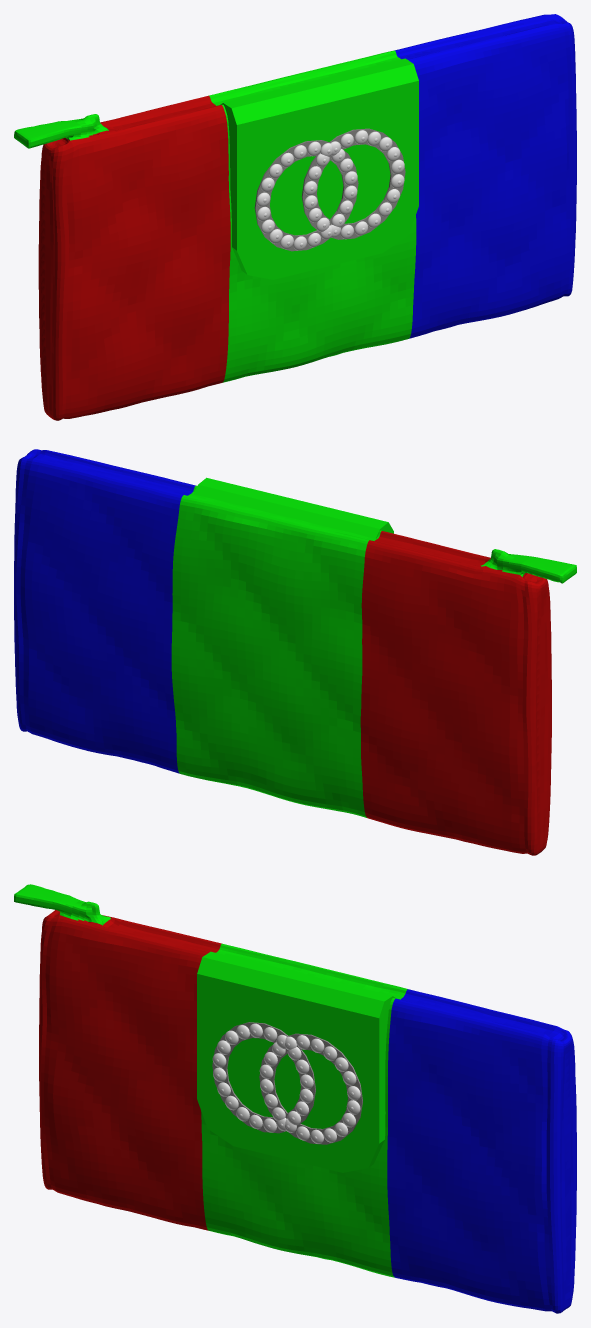
The model's file is Colour wallet.fbx.
3 views of the same model, one above another, from view 1: azimuth 30°, elevation 25°; view 2: azimuth 150°, elevation 25°; view 3: azimuth 330°, elevation 25° (orthographic).
Parts seen in each view (by area): view 1: Group15469, pCube1, polySurface22, polySurface34; view 2: Group15469, pCube1; view 3: Group15469, pCube1, polySurface22, polySurface34.
Boxes of the visible parts, <box> form: Group15469: <box>14,14,576,420</box>; pCube1: <box>220,58,418,279</box>; polySurface22: <box>301,128,405,239</box>; polySurface34: <box>254,140,358,251</box>; Group15469: <box>14,449,576,855</box>; pCube1: <box>194,477,393,538</box>; Group15469: <box>14,884,576,1313</box>; pCube1: <box>197,951,395,1172</box>; polySurface22: <box>259,1033,362,1144</box>; polySurface34: <box>212,1022,315,1133</box>.
Size of the model in its own units: 24.48 by 12.71 by 3.05.
